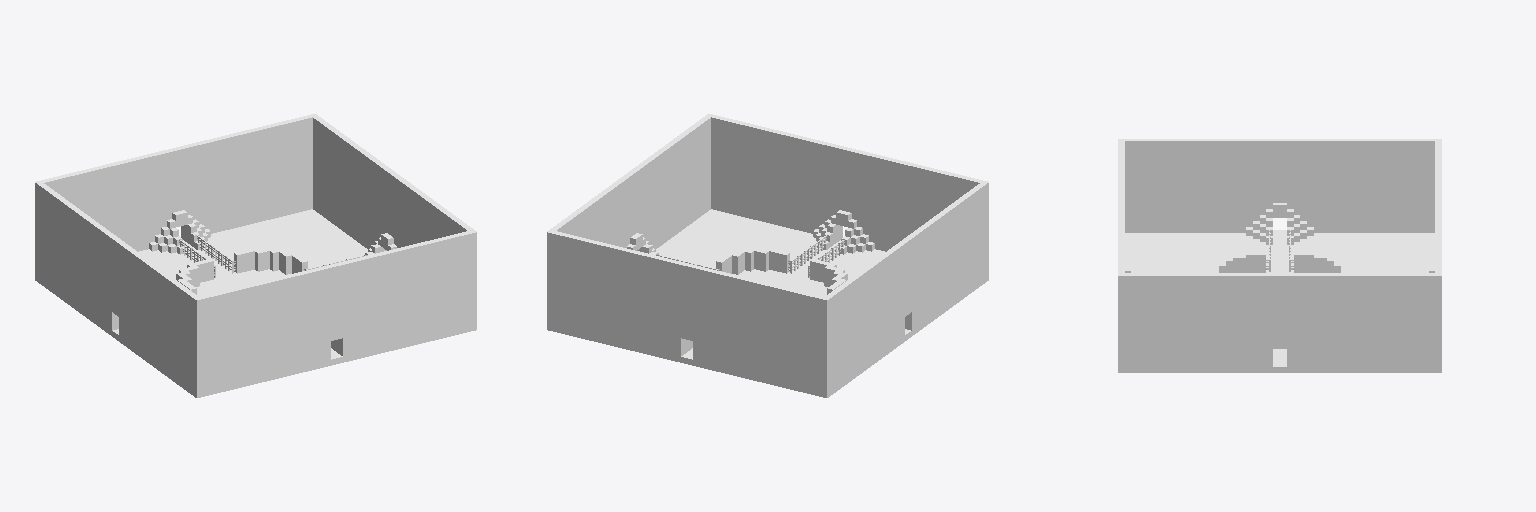
The model's file is Trial.obj.
3 renders of one model, left to right at view 1: azimuth 30°, elevation 25°; view 2: azimuth 150°, elevation 25°; view 3: azimuth 270°, elevation 25°, orthographic.
Visible parts, largest first — view 1: New_World__-347_6_277_to_-300_25_324; view 2: New_World__-347_6_277_to_-300_25_324; view 3: New_World__-347_6_277_to_-300_25_324.
Boxes of the visible parts, x1,y1,x2,y2 form: New_World__-347_6_277_to_-300_25_324: [35, 114, 476, 397]; New_World__-347_6_277_to_-300_25_324: [547, 114, 988, 397]; New_World__-347_6_277_to_-300_25_324: [1118, 139, 1441, 372].
Bounding box in the file's own units: 48 × 16 × 48.